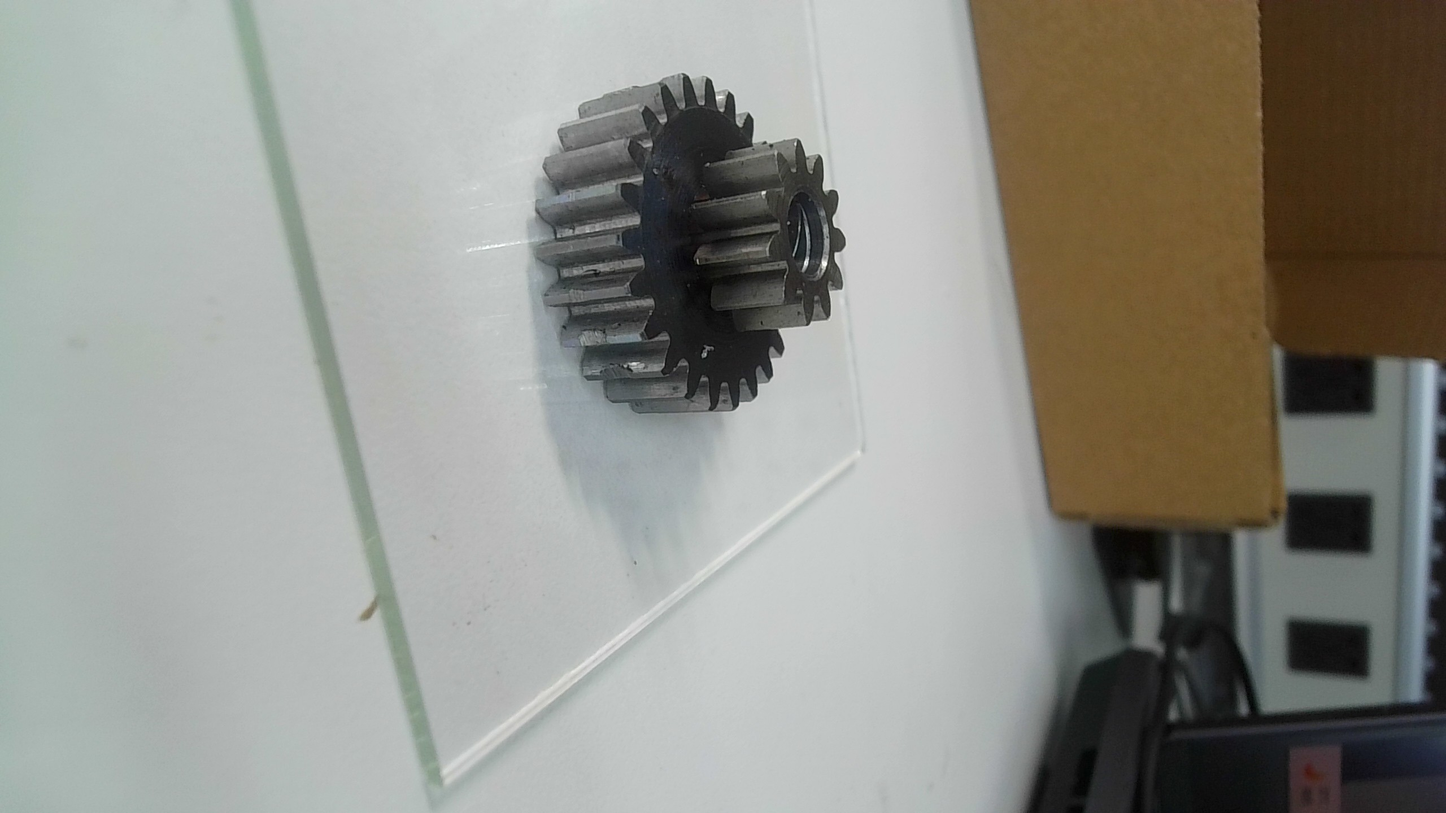gear: (528, 69, 851, 427)
